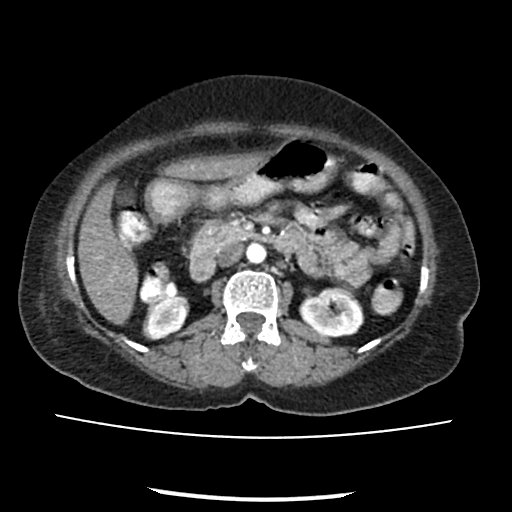aorta: (242, 240, 269, 265)
